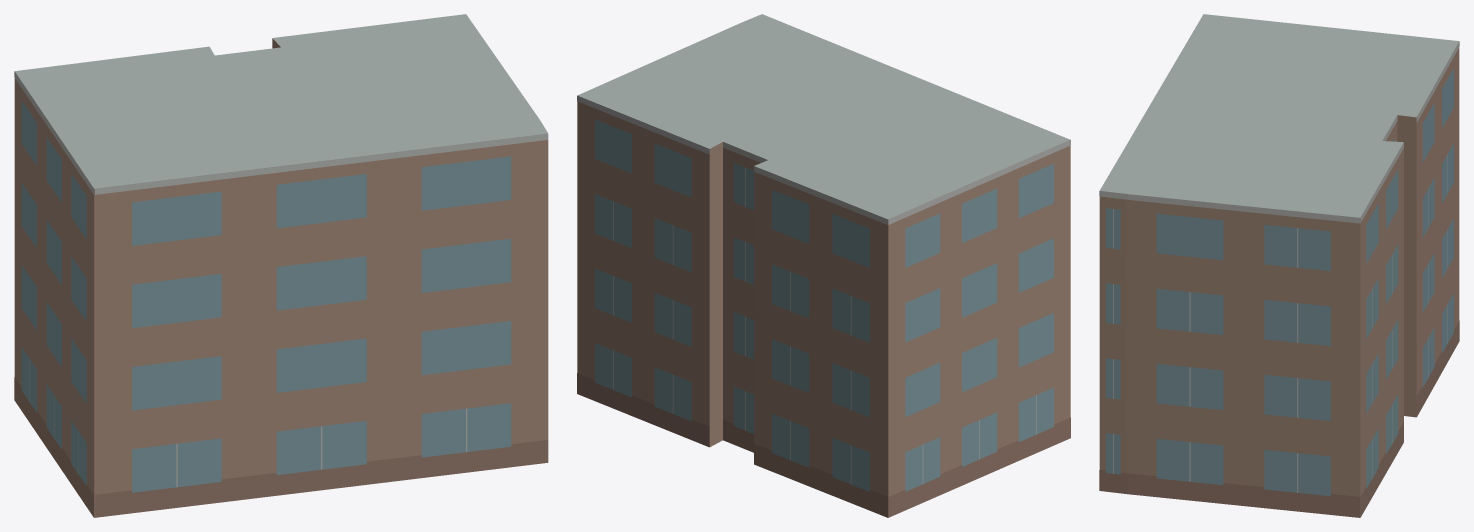
The model's file is survey-upis-32998006.glb.
The picture shows the model from 3 angles, left to right: view 1: azimuth 30°, elevation 25°; view 2: azimuth 150°, elevation 25°; view 3: azimuth 270°, elevation 25°; orthographic projection. The views are drawn at different scales.
Parts seen in each view (by area): view 1: survey-upis-32998006.tmp; view 2: survey-upis-32998006.tmp; view 3: survey-upis-32998006.tmp.
Part boxes in pixels (box(x1,y1,x2,y2)): survey-upis-32998006.tmp: box(14, 14, 548, 517); survey-upis-32998006.tmp: box(577, 14, 1070, 517); survey-upis-32998006.tmp: box(1099, 14, 1459, 517).
Size of the model in its own units: 18.66 by 12.8 by 13.93.
